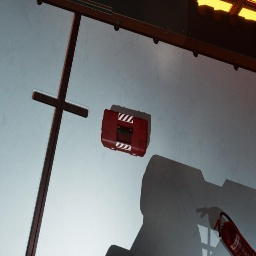FireExtinguisher ]: (214, 212, 256, 256)
FirstAidBox ,: (101, 109, 148, 157)
